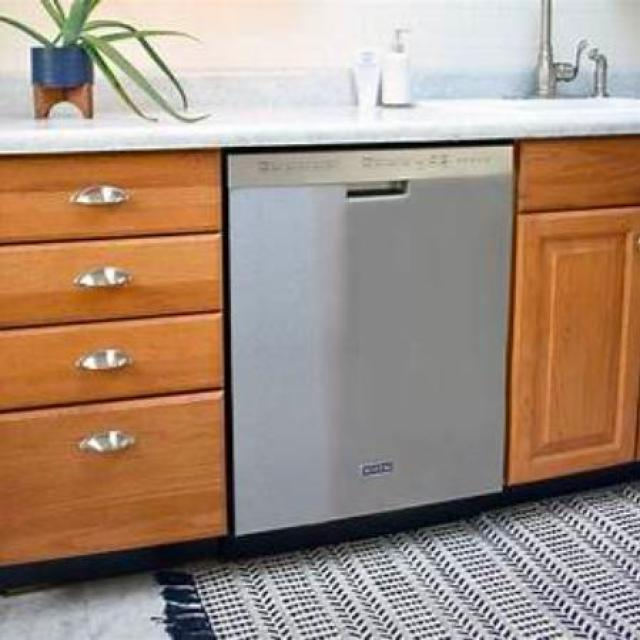dishwasher: (225, 147, 506, 540)
